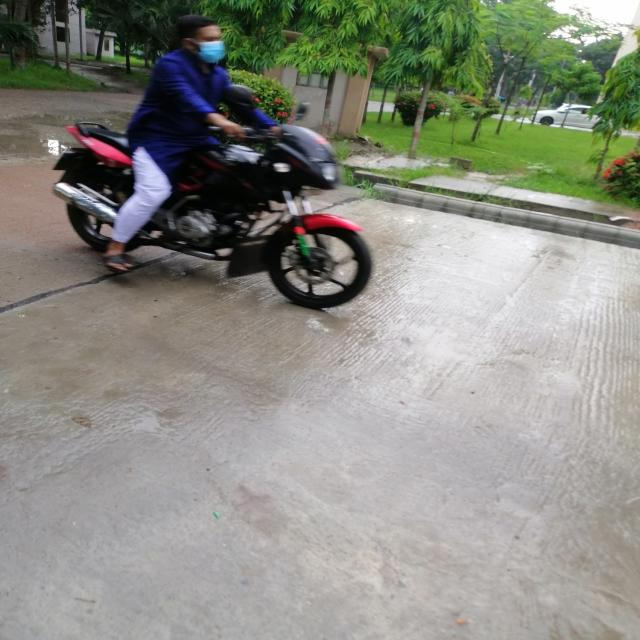Motorbike: (53, 99, 379, 315)
